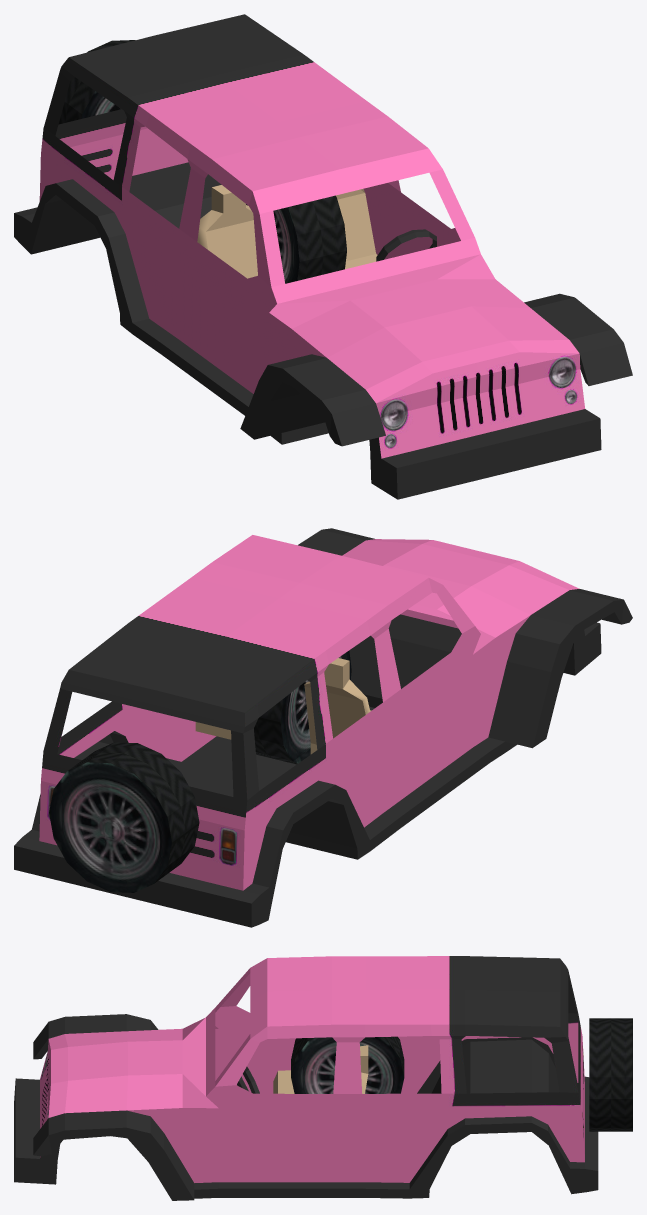
The model's file is jeep pink.glb.
3 views of the same model, one above another, from view 1: azimuth 30°, elevation 25°; view 2: azimuth 150°, elevation 25°; view 3: azimuth 270°, elevation 25° (orthographic). The views are drawn at different scales.
Visible parts, largest first — view 1: body, wheel; view 2: body, wheel; view 3: body, wheel.
Part boxes in pixels (x1,y1,x2,y2): body: [14, 14, 632, 499]; wheel: [246, 195, 346, 283]; body: [14, 528, 632, 927]; wheel: [254, 650, 351, 764]; body: [14, 956, 632, 1200]; wheel: [291, 1036, 404, 1093].
Bounding box in the file's own units: 2.04 × 1.36 × 4.67.
1 material, 1 textured.
